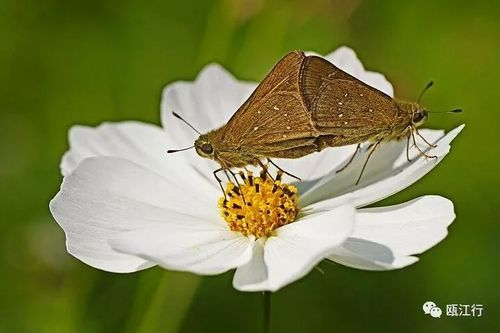Hesperiidae: (298, 48, 463, 179), (166, 46, 316, 187)
